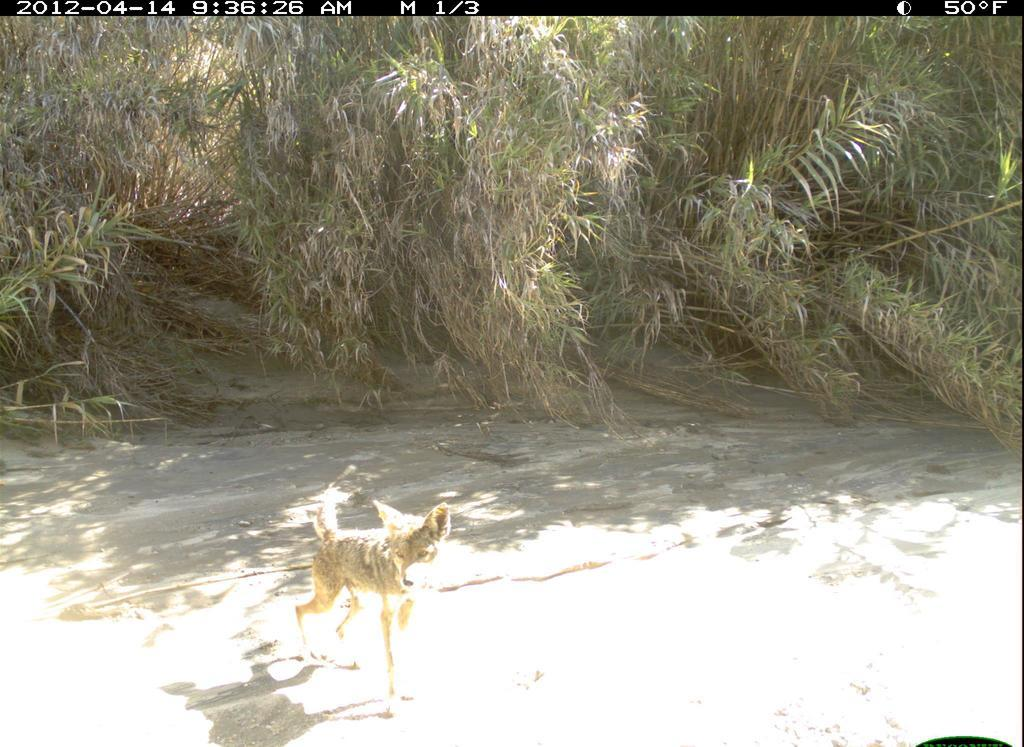coyote: (274, 474, 464, 731)
